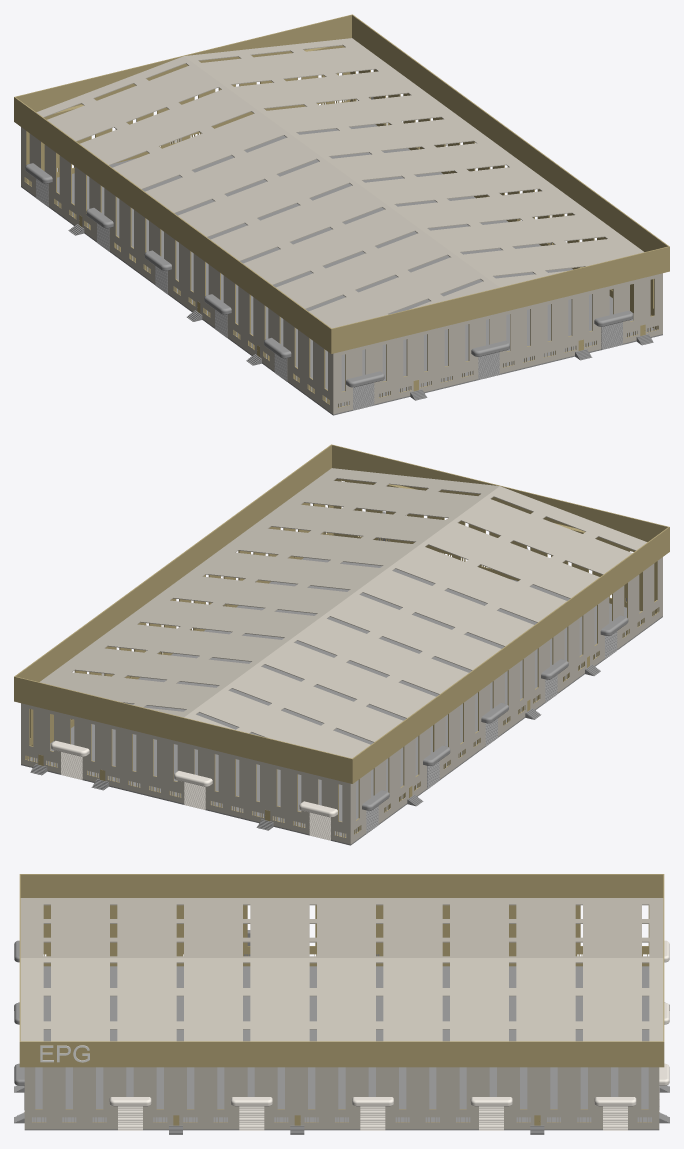
The model's file is block1 v9.fbx.
The picture shows the model from 3 angles, top to bottom: view 1: azimuth 30°, elevation 25°; view 2: azimuth 150°, elevation 25°; view 3: azimuth 270°, elevation 25°; orthographic projection.
Visible parts, largest first — view 1: roof, walls, flooe; view 2: roof, walls, flooe; view 3: roof, walls, flooe, shutter (×5), canopy (×5).
Boxes of the visible parts, x1,y1,x2,y2 form: roof: (36, 38, 644, 328); walls: (14, 14, 669, 414); flooe: (21, 124, 662, 415); roof: (39, 468, 647, 758); walls: (14, 444, 669, 844); flooe: (21, 557, 662, 845); roof: (20, 898, 663, 1041); walls: (19, 874, 664, 1129); flooe: (24, 966, 659, 1130); shutter (×5): (118, 1106, 627, 1130); canopy (×5): (109, 1097, 636, 1106).
Size of the model in its own units: 79140 by 19399 by 127147.
